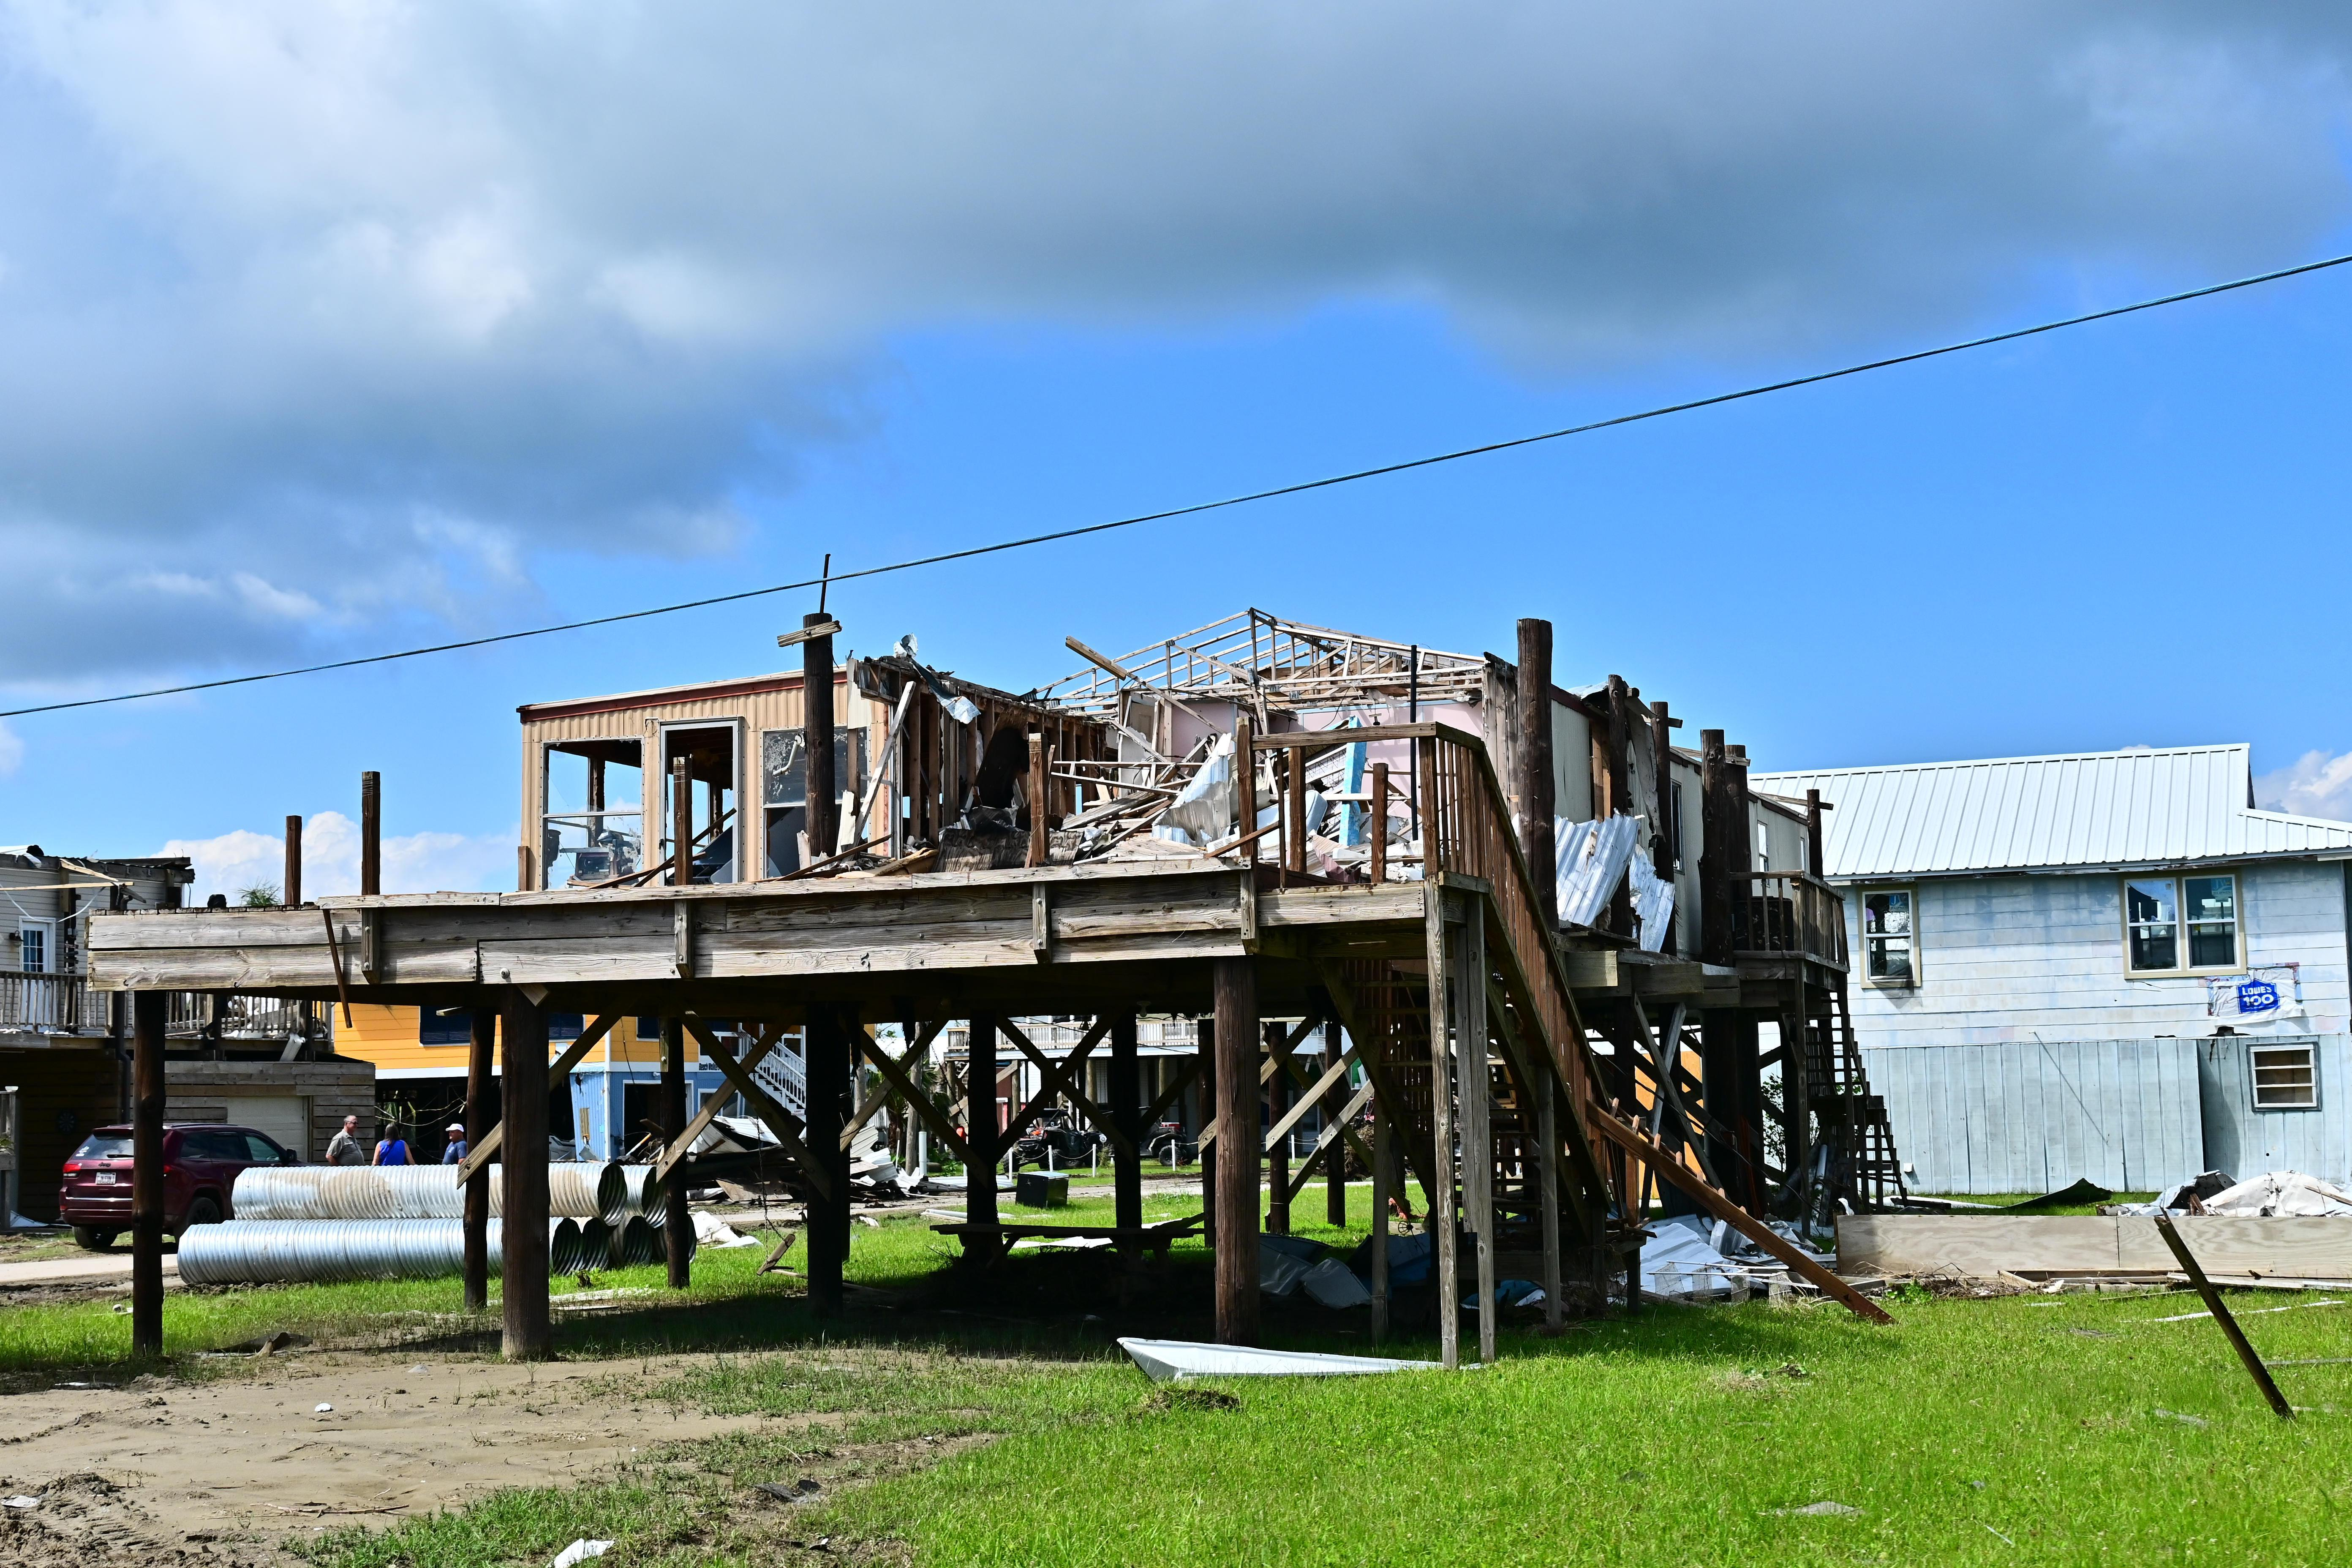destroyed: (63, 578, 1886, 1356)
